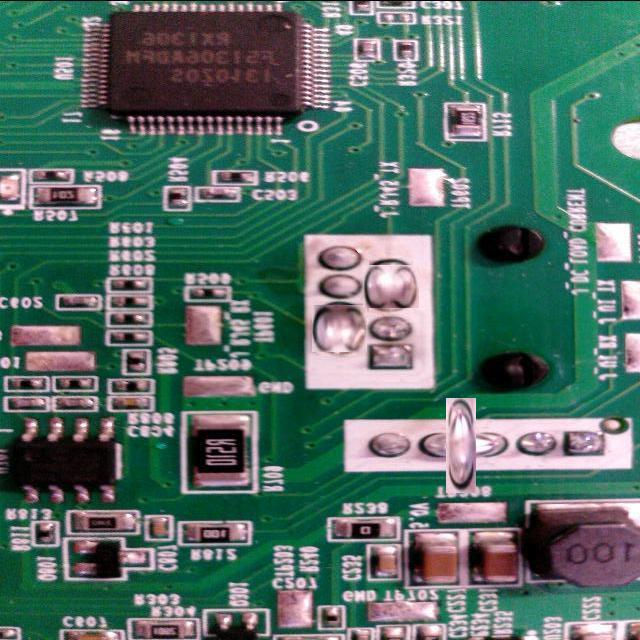Short_circuit: (430, 413, 493, 477), (314, 303, 366, 354), (366, 261, 416, 311)
